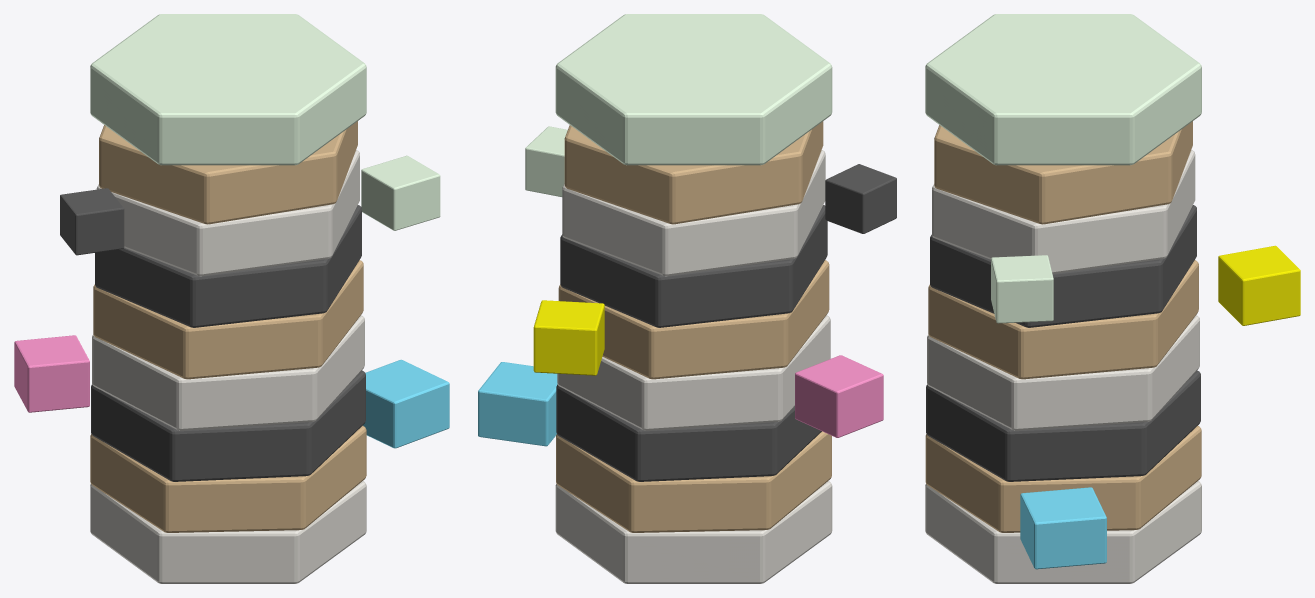
Rendered from hero.glb.
3 views of the same model, side by side, from view 1: azimuth 30°, elevation 25°; view 2: azimuth 150°, elevation 25°; view 3: azimuth 270°, elevation 25° (orthographic).
Parts seen in each view (by area): view 1: cap, hex1, hex0, hex2, hex3, hex4, hex5, hex7, hex6, Cube, Cube.001, Cube.003 (+1 smaller); view 2: cap, hex0, hex1, hex5, hex6, hex7, hex2, hex3, hex4, Cube.001, Cube, Cube.002 (+2 smaller); view 3: cap, hex2, hex3, hex4, hex7, hex6, hex0, hex1, hex5, Cube, Cube.002, Cube.003.
Part boxes in pixels (<box>): cap: <box>90,14,366,165</box>; hex1: <box>90,425,366,532</box>; hex0: <box>90,481,366,583</box>; hex2: <box>91,370,365,481</box>; hex3: <box>92,315,364,430</box>; hex4: <box>93,260,363,379</box>; hex5: <box>95,205,361,327</box>; hex7: <box>99,121,357,224</box>; hex6: <box>96,150,359,276</box>; Cube: <box>363,359,449,448</box>; Cube.001: <box>14,335,89,412</box>; Cube.003: <box>361,155,440,230</box>; cap: <box>555,14,832,165</box>; hex0: <box>555,481,832,583</box>; hex1: <box>556,431,831,532</box>; hex5: <box>560,205,827,327</box>; hex6: <box>562,150,825,276</box>; hex7: <box>564,121,823,224</box>; hex2: <box>556,384,821,481</box>; hex3: <box>557,315,830,430</box>; hex4: <box>558,260,829,379</box>; Cube.001: <box>795,355,883,437</box>; Cube: <box>478,362,557,446</box>; Cube.002: <box>533,300,604,375</box>; cap: <box>925,14,1201,165</box>; hex2: <box>926,370,1200,481</box>; hex3: <box>927,315,1199,430</box>; hex4: <box>928,260,1198,379</box>; hex7: <box>934,121,1192,224</box>; hex6: <box>932,150,1195,273</box>; hex0: <box>925,481,1201,583</box>; hex1: <box>925,425,1201,532</box>; hex5: <box>930,205,1196,327</box>; Cube: <box>1020,487,1106,569</box>; Cube.002: <box>1218,245,1300,325</box>; Cube.003: <box>991,255,1053,323</box>.
Bounding box in the file's own units: 4.5 × 5.04 × 3.64.
